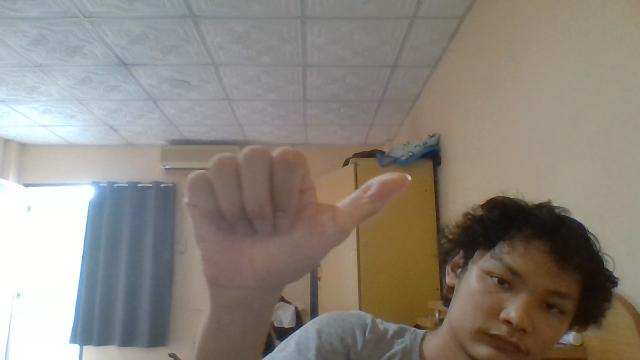left: (183, 143, 411, 297)
